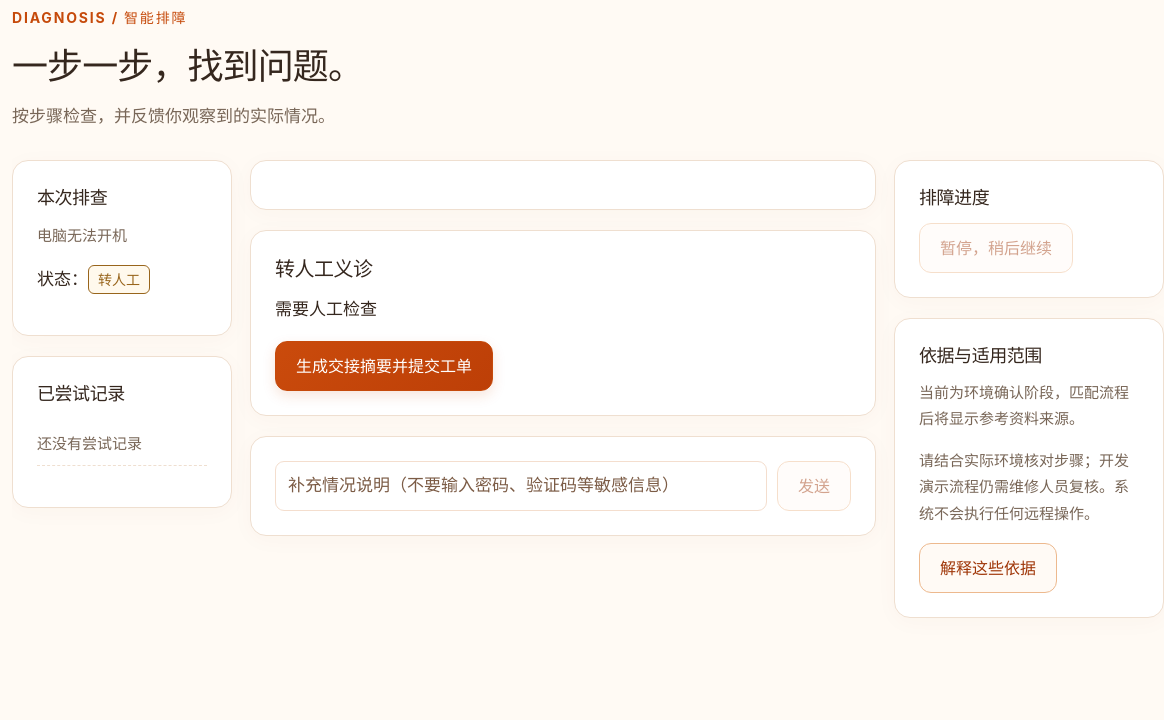
Test: 诊断状态与交接反馈 › 交接摘要加载失败时显示错误并恢复按钮
Click the button "生成交接摘要并提交工单" at (384, 366), box [275,341,493,391]
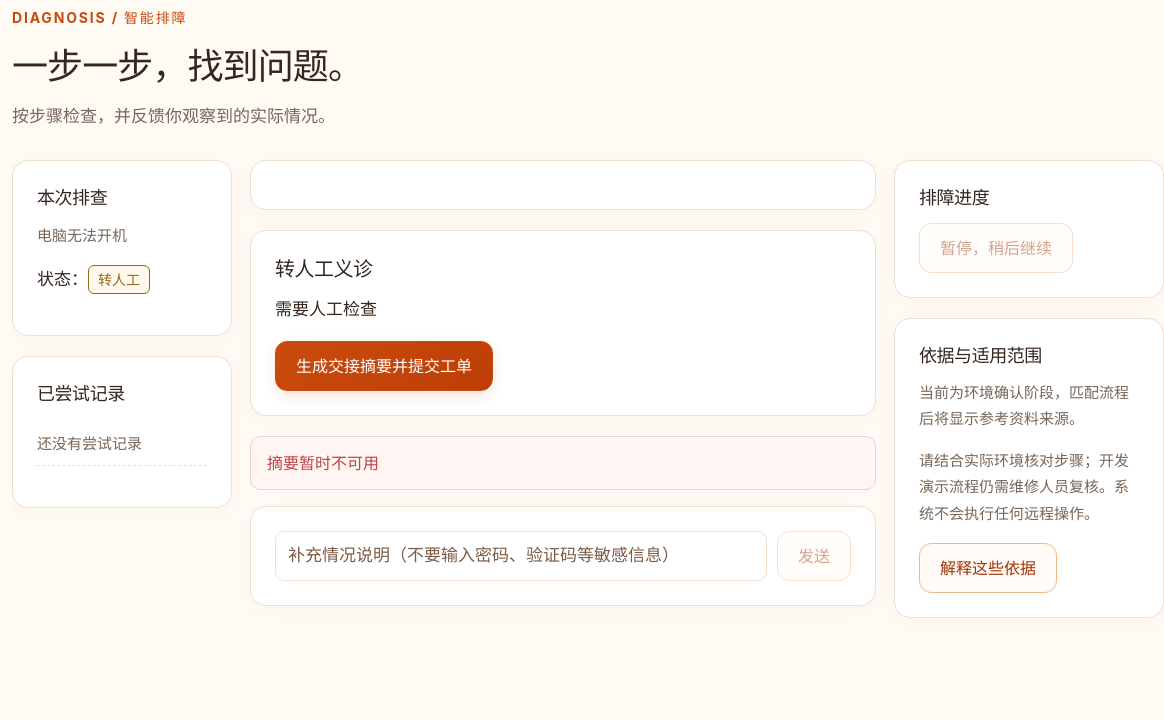
Expected: the message reads "摘要暂时不可用", [267,453,379,473]
